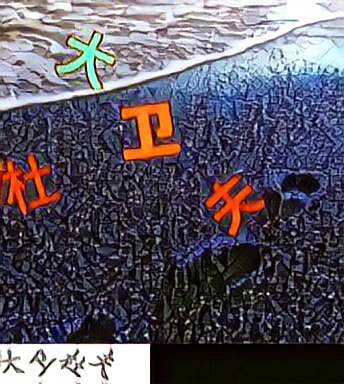B4F3: (51, 28, 115, 94)
B6C5: (2, 148, 66, 214)
B7F2: (203, 170, 267, 236)
CEC0: (117, 97, 181, 163)
